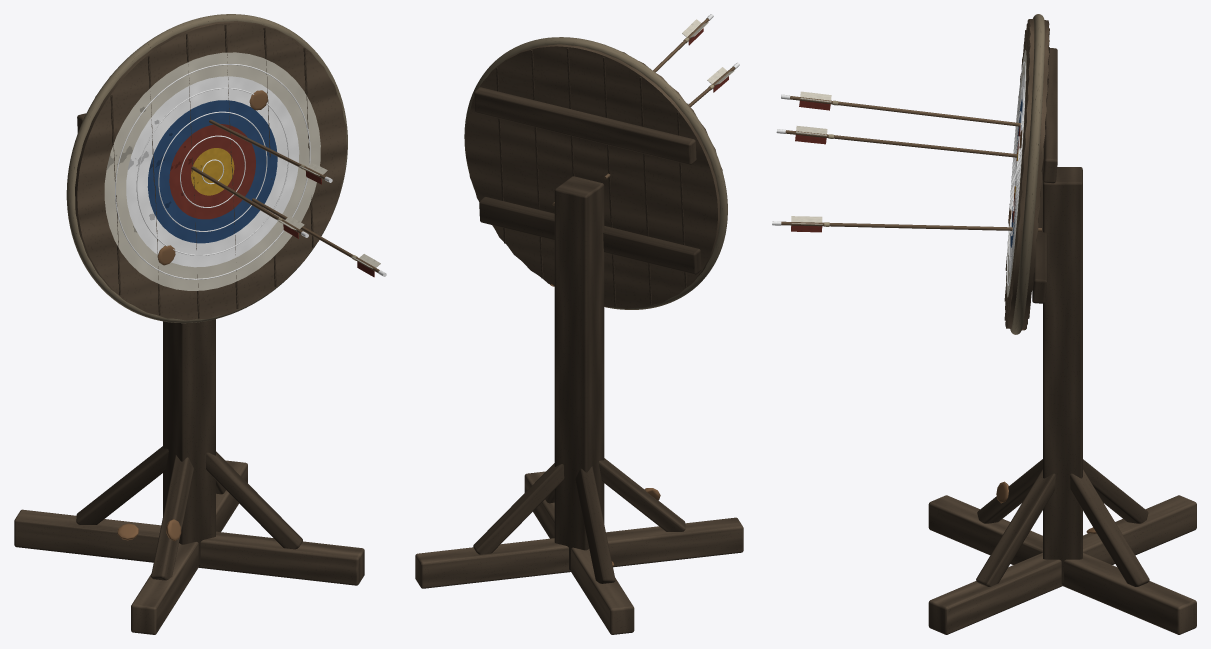
The picture shows the model from 3 angles, left to right: view 1: azimuth 30°, elevation 25°; view 2: azimuth 150°, elevation 25°; view 3: azimuth 270°, elevation 25°; orthographic projection. The views are drawn at different scales.
Visible parts, largest first — view 1: quarter-sawn hardwood, hardwood bevel and dark grain, chalk white enamel, lamp-black enamel, blue enamel, forged iron, faded red enamel, worn timber edges, ochre enamel, drawbore peg; view 2: quarter-sawn hardwood, hardwood bevel and dark grain, forged iron, worn timber edges; view 3: hardwood bevel and dark grain, quarter-sawn hardwood, forged iron, worn timber edges, lamp-black enamel, chalk white enamel, faded red enamel.
Part boxes in pixels (bbox=[...]): quarter-sawn hardwood: bbox=[14, 21, 364, 634]; hardwood bevel and dark grain: bbox=[76, 24, 314, 580]; chalk white enamel: bbox=[104, 52, 380, 290]; lamp-black enamel: bbox=[115, 64, 386, 279]; blue enamel: bbox=[147, 100, 277, 243]; forged iron: bbox=[66, 14, 347, 323]; faded red enamel: bbox=[169, 124, 374, 277]; worn timber edges: bbox=[191, 119, 379, 272]; ochre enamel: bbox=[191, 148, 234, 195]; drawbore peg: bbox=[117, 90, 267, 540]; quarter-sawn hardwood: bbox=[415, 44, 743, 634]; hardwood bevel and dark grain: bbox=[473, 48, 701, 583]; forged iron: bbox=[464, 37, 727, 309]; worn timber edges: bbox=[552, 18, 735, 205]; hardwood bevel and dark grain: bbox=[976, 20, 1149, 586]; quarter-sawn hardwood: bbox=[928, 19, 1196, 634]; forged iron: bbox=[1010, 14, 1044, 334]; worn timber edges: bbox=[781, 96, 1041, 231]; lamp-black enamel: bbox=[772, 61, 1025, 285]; chalk white enamel: bbox=[791, 50, 1026, 297]; faded red enamel: bbox=[791, 100, 1020, 232].
Size of the model in its own units: 0.724 by 1.37 by 0.9557.
12 materials, 10 textured.
